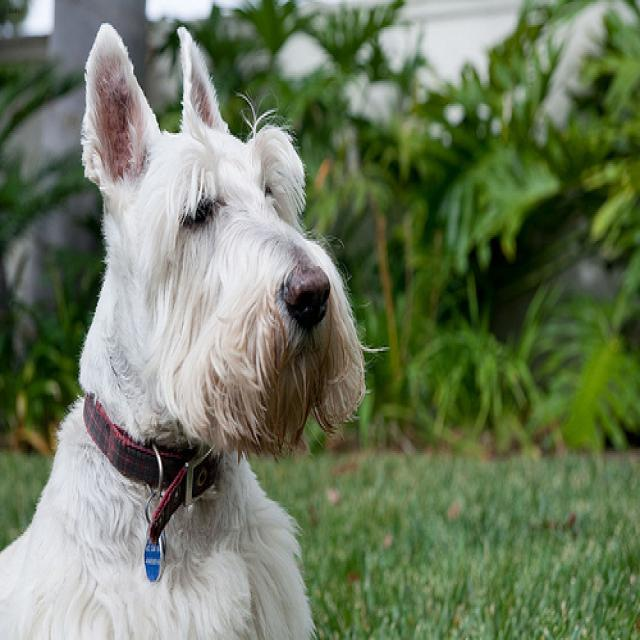dog-scottish_terrier: (1, 10, 390, 636)
